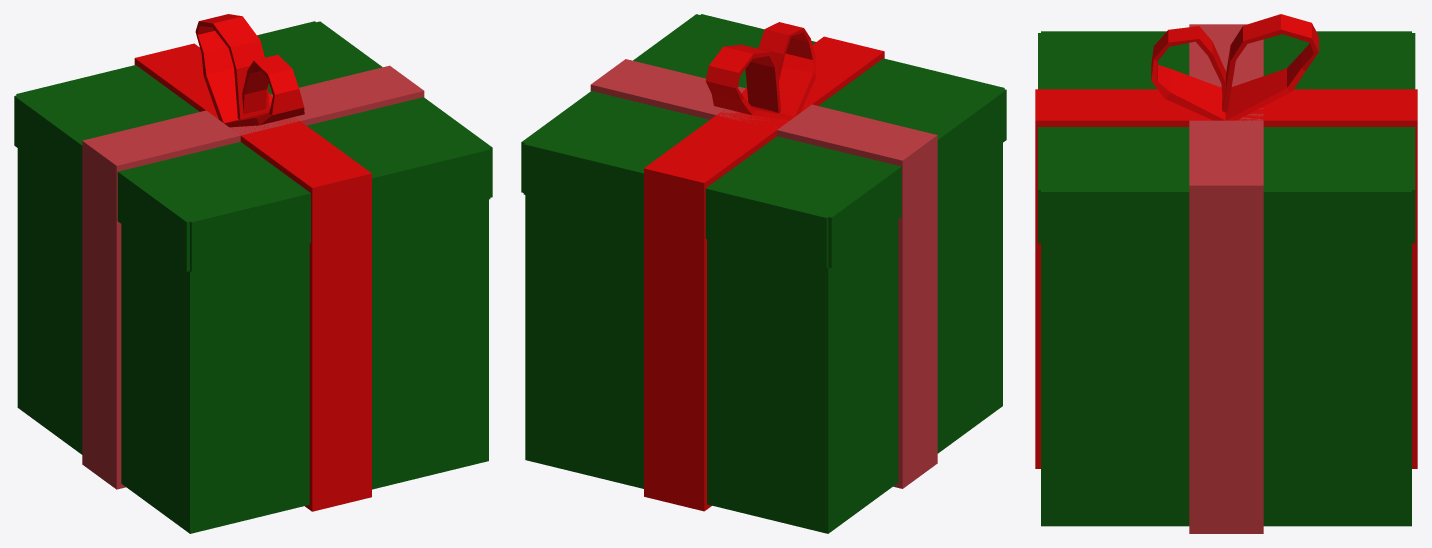
Rendered from gift1.fbx.
The picture shows the model from 3 angles, left to right: view 1: azimuth 30°, elevation 25°; view 2: azimuth 150°, elevation 25°; view 3: azimuth 270°, elevation 25°; orthographic projection. The views are drawn at different scales.
Parts seen in each view (by area): view 1: Cube, Cube.001, Cube.002; view 2: Cube, Cube.001, Cube.002; view 3: Cube, Cube.002, Cube.001.
Boxes of the visible parts, x1=… form: Cube: x1=14, y1=21, x2=492, y2=533; Cube.001: x1=134, y1=14, x2=371, y2=511; Cube.002: x1=82, y1=65, x2=424, y2=489; Cube: x1=521, y1=14, x2=1006, y2=533; Cube.001: x1=644, y1=22, x2=884, y2=511; Cube.002: x1=590, y1=59, x2=937, y2=488; Cube: x1=1038, y1=31, x2=1415, y2=526; Cube.002: x1=1189, y1=24, x2=1263, y2=533; Cube.001: x1=1035, y1=14, x2=1417, y2=468.
Size of the model in its own units: 206 by 257 by 206.
